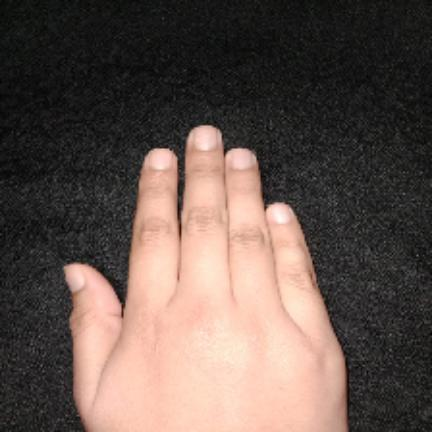Nail: (64, 264, 85, 293), (193, 126, 218, 150), (229, 148, 253, 170), (148, 149, 174, 169), (269, 203, 290, 224)
